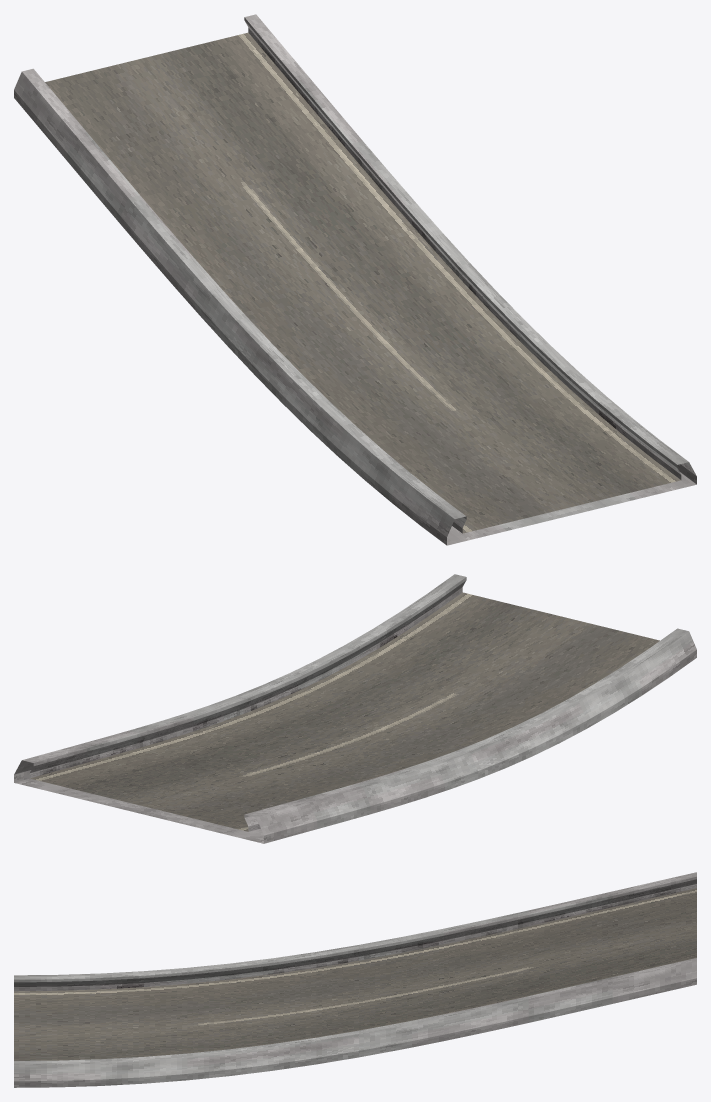
Rendered from straight3.glb.
3 renders of one model, top to bottom at view 1: azimuth 30°, elevation 25°; view 2: azimuth 150°, elevation 25°; view 3: azimuth 270°, elevation 25°, orthographic. The views are drawn at different scales.
Parts seen in each view (by area): view 1: road-Straight-Flat-BiSlopeUp-Up2-Center-Size3; view 2: road-Straight-Flat-BiSlopeUp-Up2-Center-Size3; view 3: road-Straight-Flat-BiSlopeUp-Up2-Center-Size3.
Boxes of the visible parts, box(x1,y1,x2,y2) form: road-Straight-Flat-BiSlopeUp-Up2-Center-Size3: box(14, 14, 696, 545); road-Straight-Flat-BiSlopeUp-Up2-Center-Size3: box(14, 574, 696, 843); road-Straight-Flat-BiSlopeUp-Up2-Center-Size3: box(14, 872, 696, 1087).
Bounding box in the file's own units: 1 × 0.5938 × 3.
Materials: 2 (2 with a texture image).
